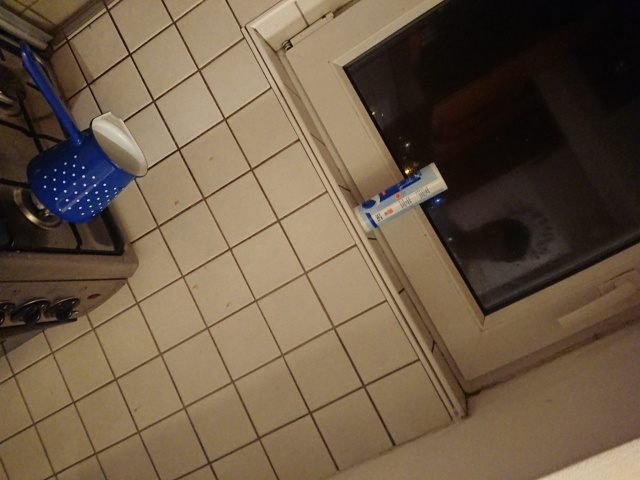Solana Pag Fine Sea Salt 250g: (351, 156, 450, 236)
